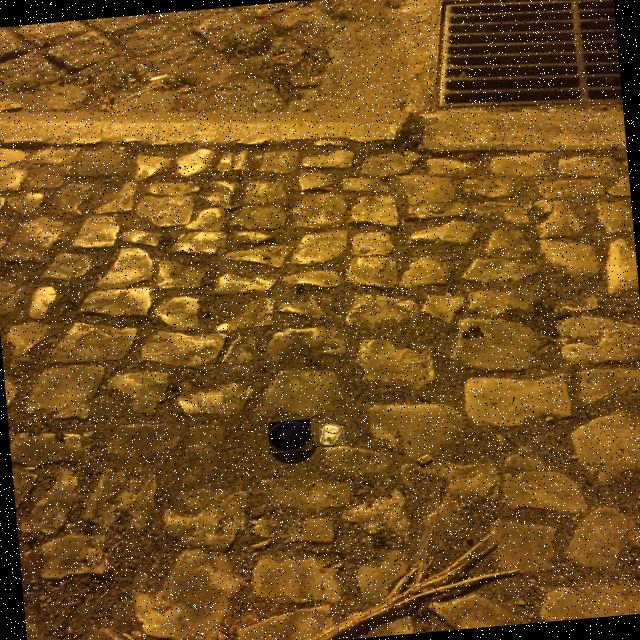Cigarette: (273, 52, 291, 58)
Plastic bottle cap: (268, 422, 311, 452)
Pop tab: (320, 423, 344, 445)
